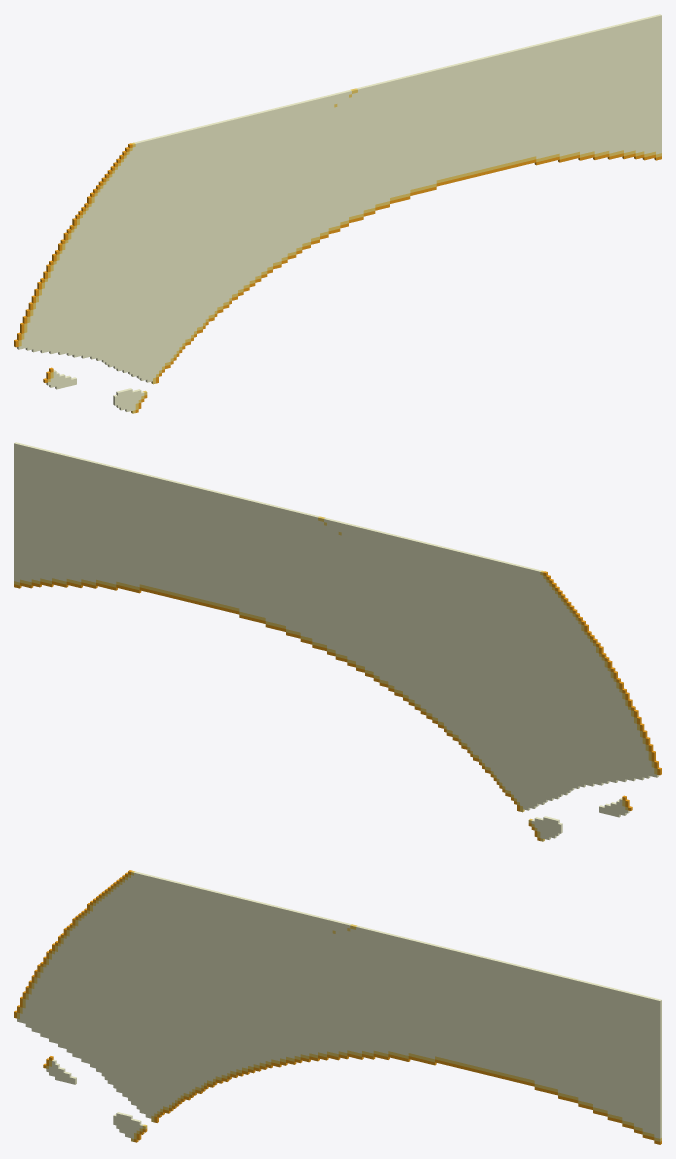
Rendered from Fight_003_2_12_fx.obj.
3 renders of one model, top to bottom at view 1: azimuth 30°, elevation 25°; view 2: azimuth 150°, elevation 25°; view 3: azimuth 330°, elevation 25°, orthographic.
Size of the model in its own units: 22.1 by 8.8 by 0.1.
Materials: 1 (1 with a texture image).
